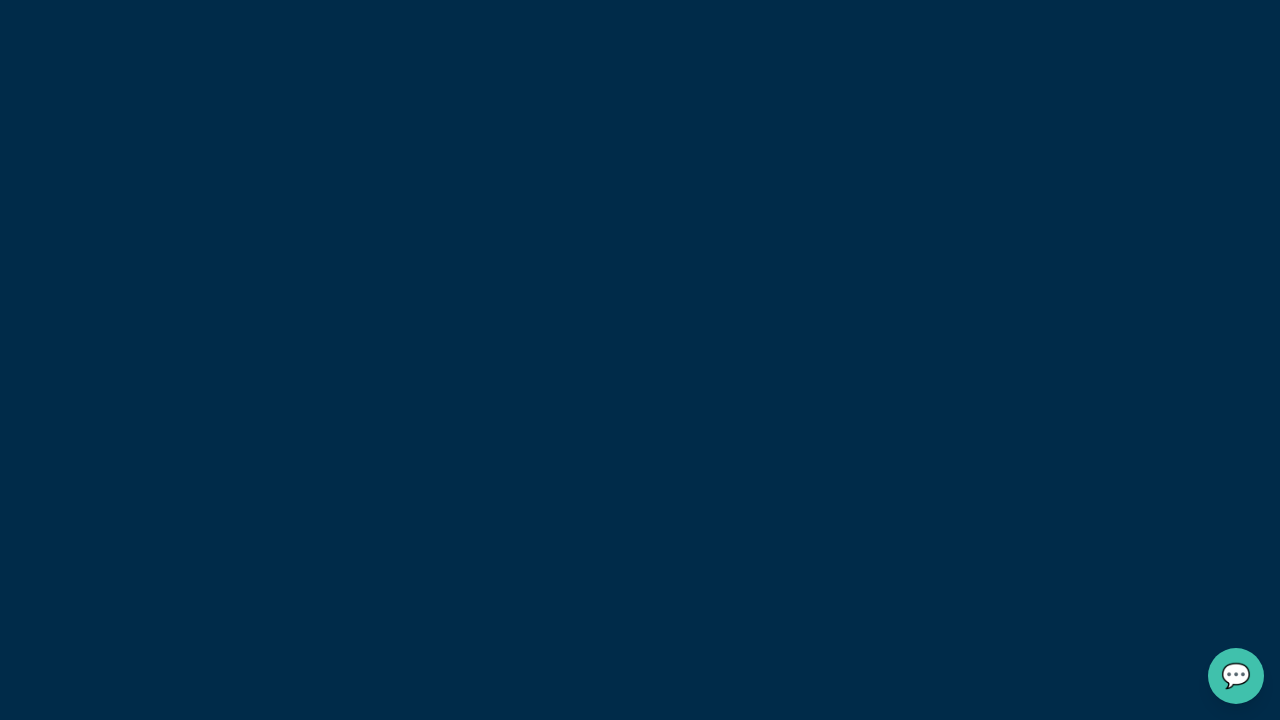
ChatWidget › support_agent customer_id/device_id resolution › shows a "select a driver or vehicle first" state instead of the message form when a support_agent has made no selection yet, and never guesses a customer
Click the button named "open chat".
click(1236, 676)  # box left=1208, top=648, right=1264, bottom=704
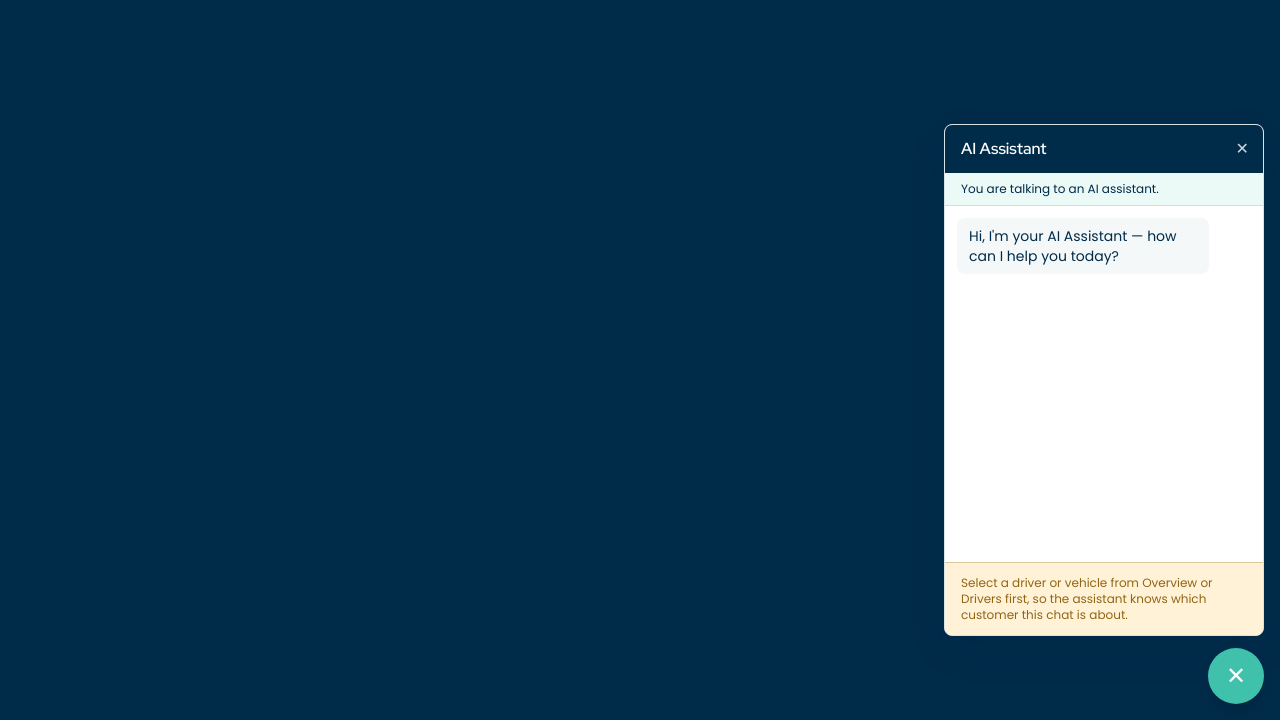
Expected: the message with test id "chat-needs-selection" shows "Select a driver or vehicle", left=961, top=574, right=1213, bottom=623
